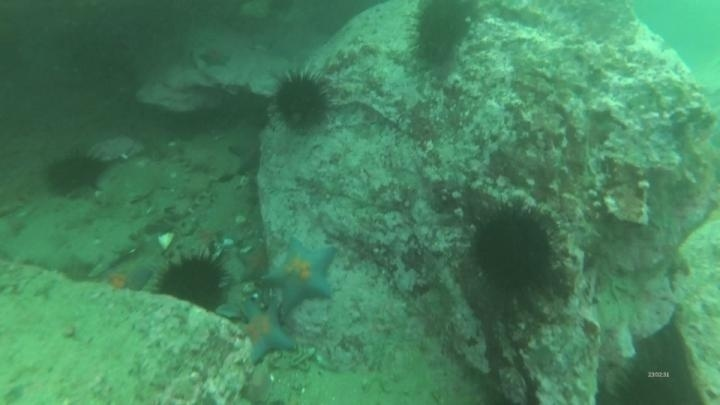echinus: (468, 204, 558, 296), (609, 347, 697, 404), (408, 2, 480, 67), (154, 251, 229, 311), (270, 68, 335, 133), (43, 149, 108, 198)
scallop: (84, 133, 146, 167)
starfish: (262, 238, 340, 310), (236, 300, 296, 365), (93, 261, 155, 295), (226, 132, 264, 177), (236, 242, 273, 284), (196, 44, 234, 70)
